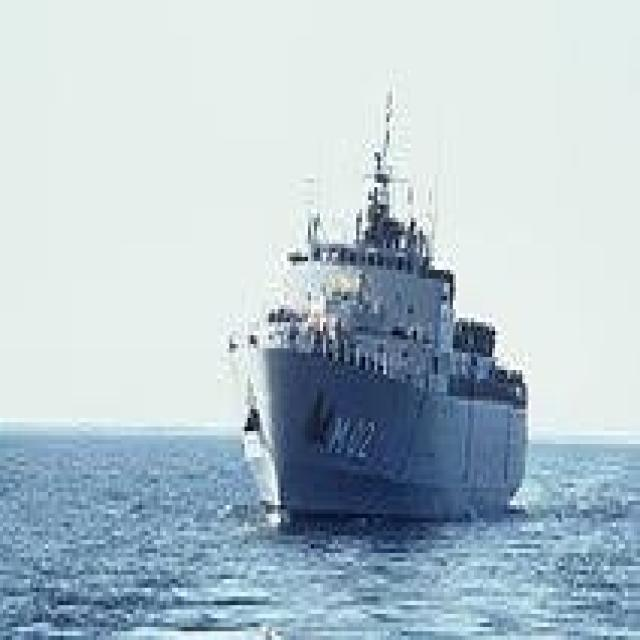navalvessels: (221, 93, 535, 520)
